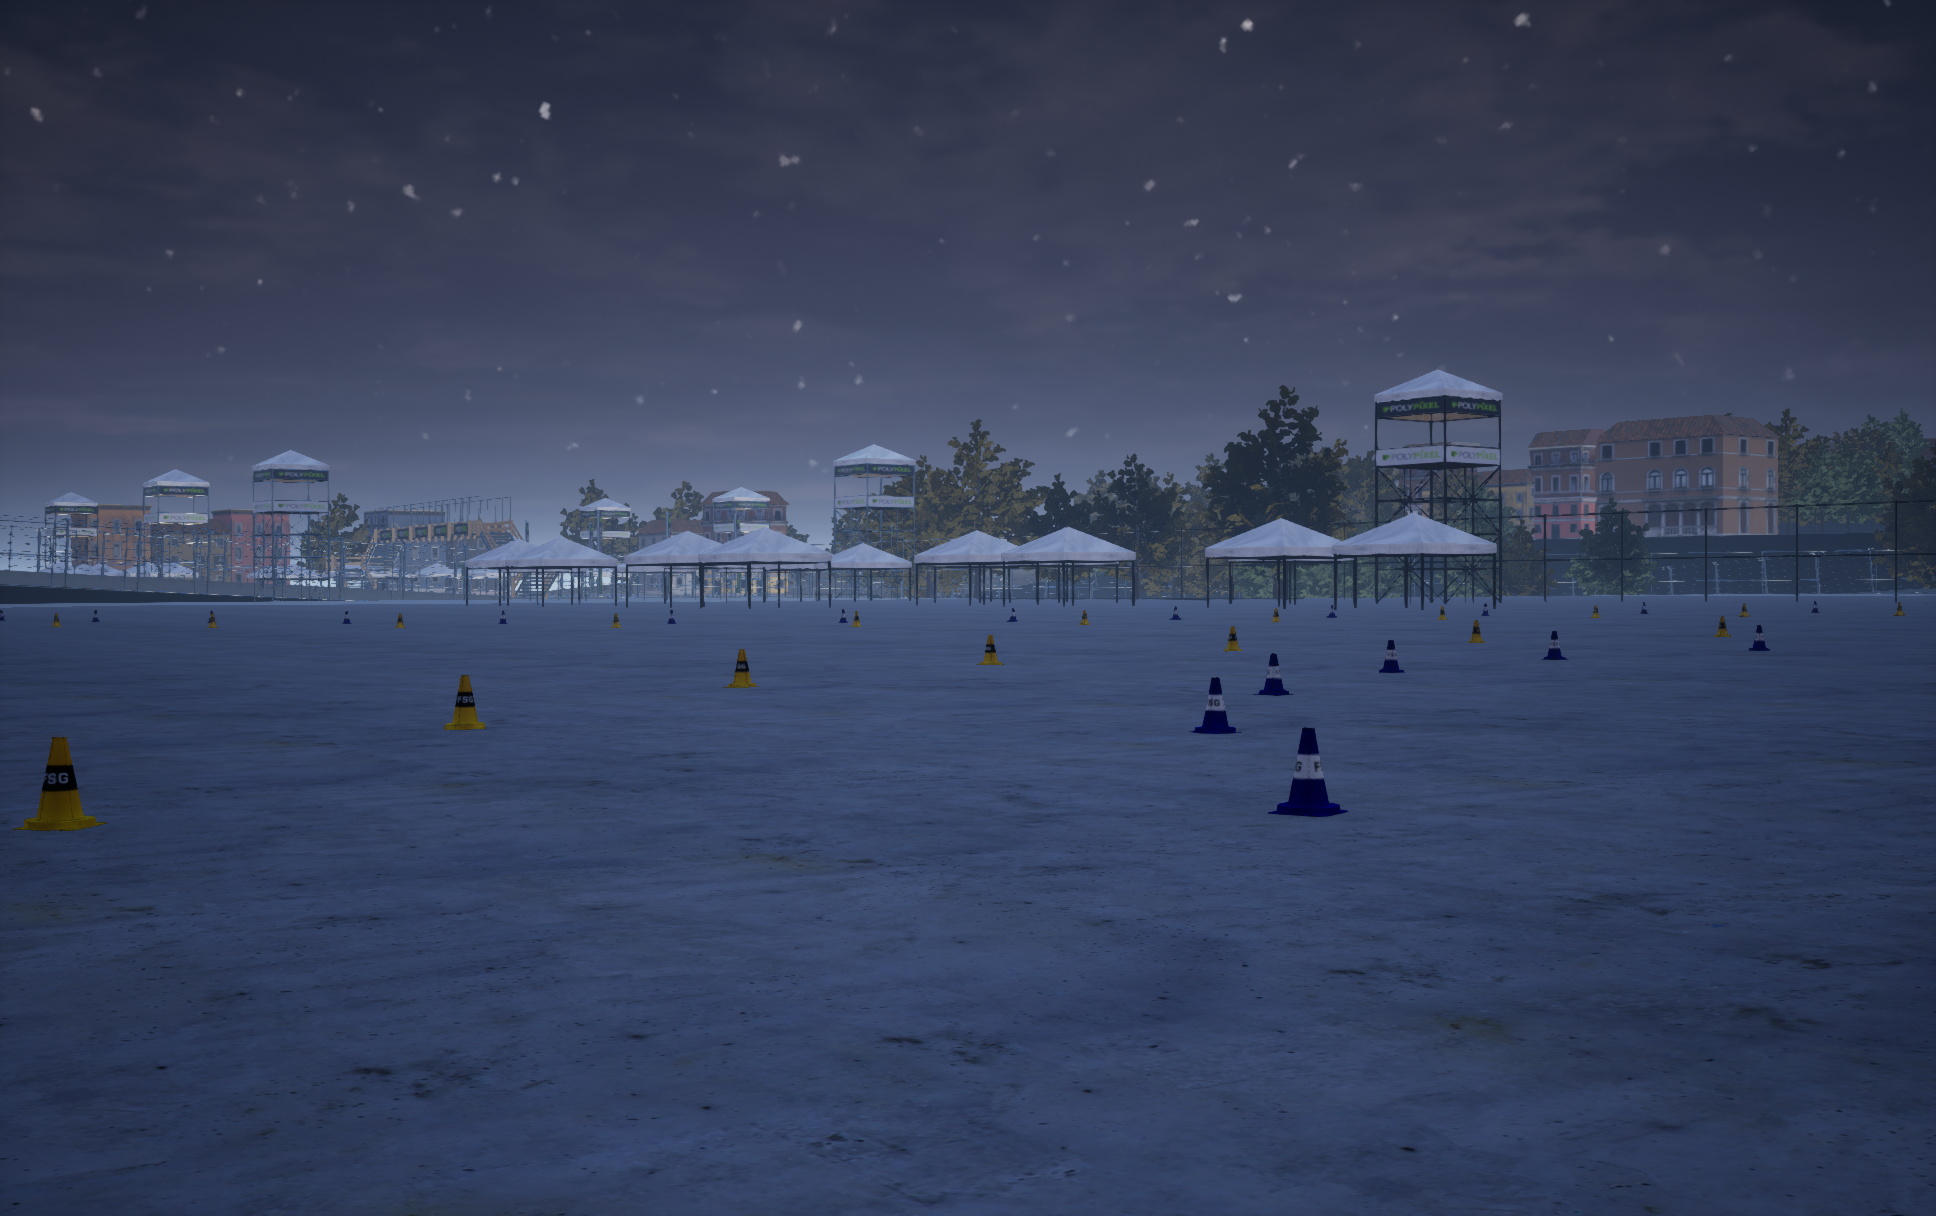blue: (13, 737, 106, 829), (444, 675, 485, 728), (723, 649, 761, 686), (976, 635, 1004, 664), (1223, 626, 1241, 651), (1468, 621, 1484, 642), (1715, 616, 1730, 636)
yellow: (1268, 727, 1348, 815), (1189, 677, 1241, 733), (1252, 653, 1293, 695), (1378, 640, 1404, 672), (1541, 630, 1568, 658), (1750, 625, 1769, 650)
